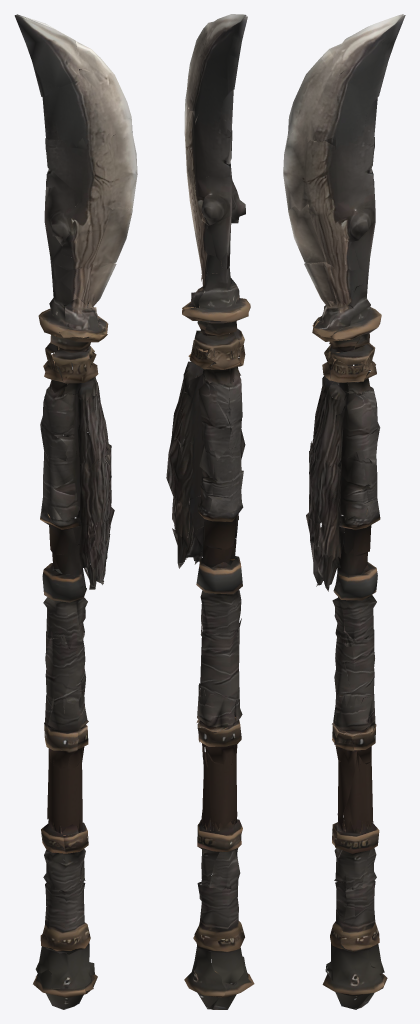
Rendered from Weapon_T8.fbx.
The picture shows the model from 3 angles, left to right: view 1: azimuth 90°, elevation 25°; view 2: azimuth 210°, elevation 25°; view 3: azimuth 270°, elevation 25°; orthographic projection.
Parts seen in each view (by area): view 1: Vanguard_Weapon; view 2: Vanguard_Weapon; view 3: Vanguard_Weapon.
Part boxes in pixels (<box>): Vanguard_Weapon: <box>14,14,137,1009</box>; Vanguard_Weapon: <box>166,14,254,1009</box>; Vanguard_Weapon: <box>283,14,405,1009</box>.
Size of the model in its own units: 0.0755 by 0.9998 by 0.1123.
Materials: 1 (1 with a texture image).
